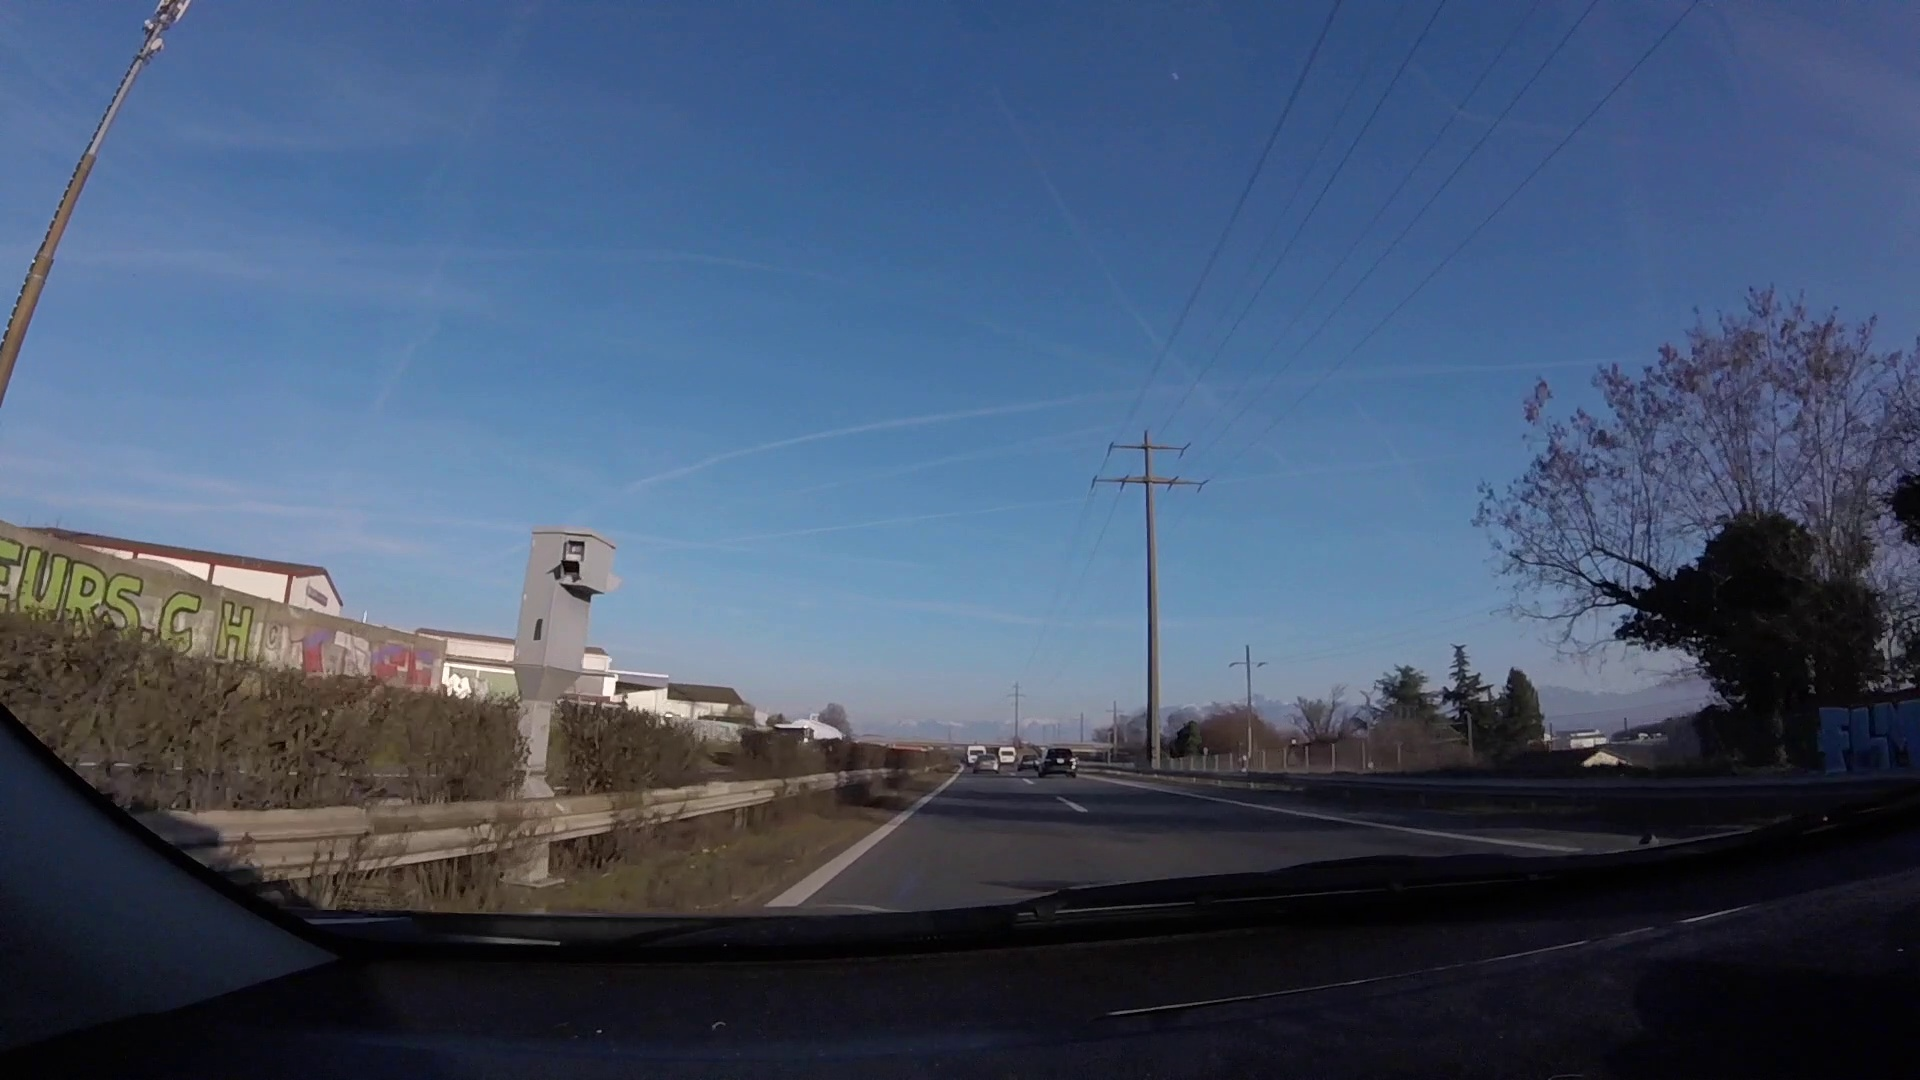radar: (510, 522, 626, 752)
